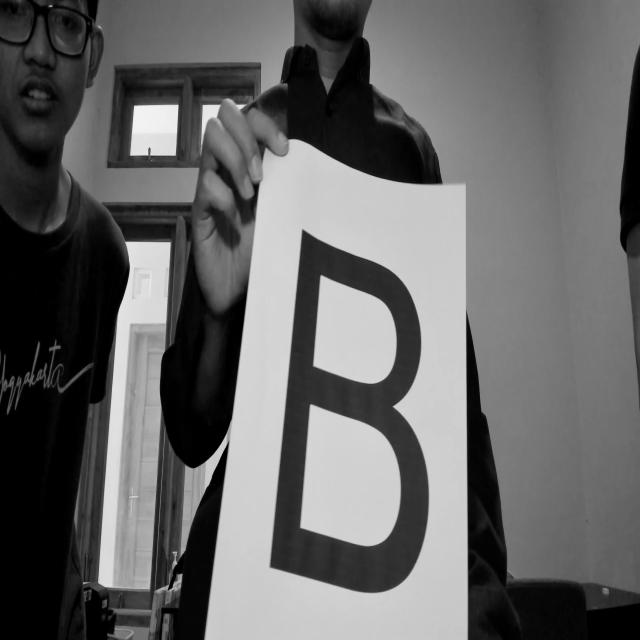b: (261, 212, 442, 609)
